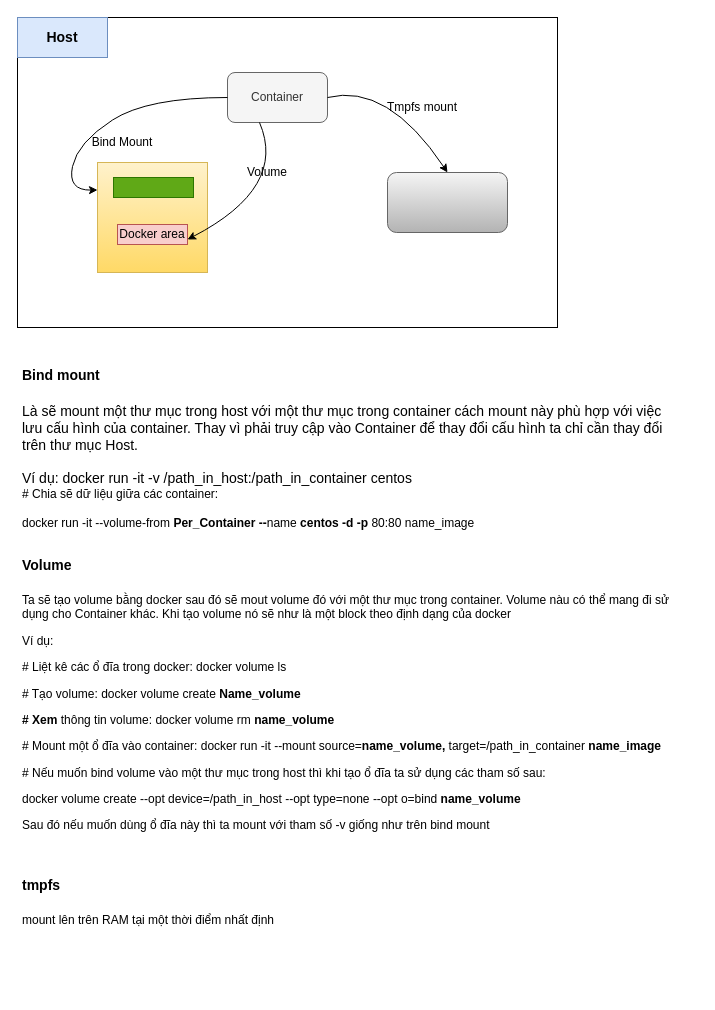
Some shapes in this 715 by 1010 pixel diagram are drawn without their labels. Each missing label, with the centre of its shape:
"Filesystem" belongs at pixel 153 187.
"Memory" belongs at pixel 447 202.
